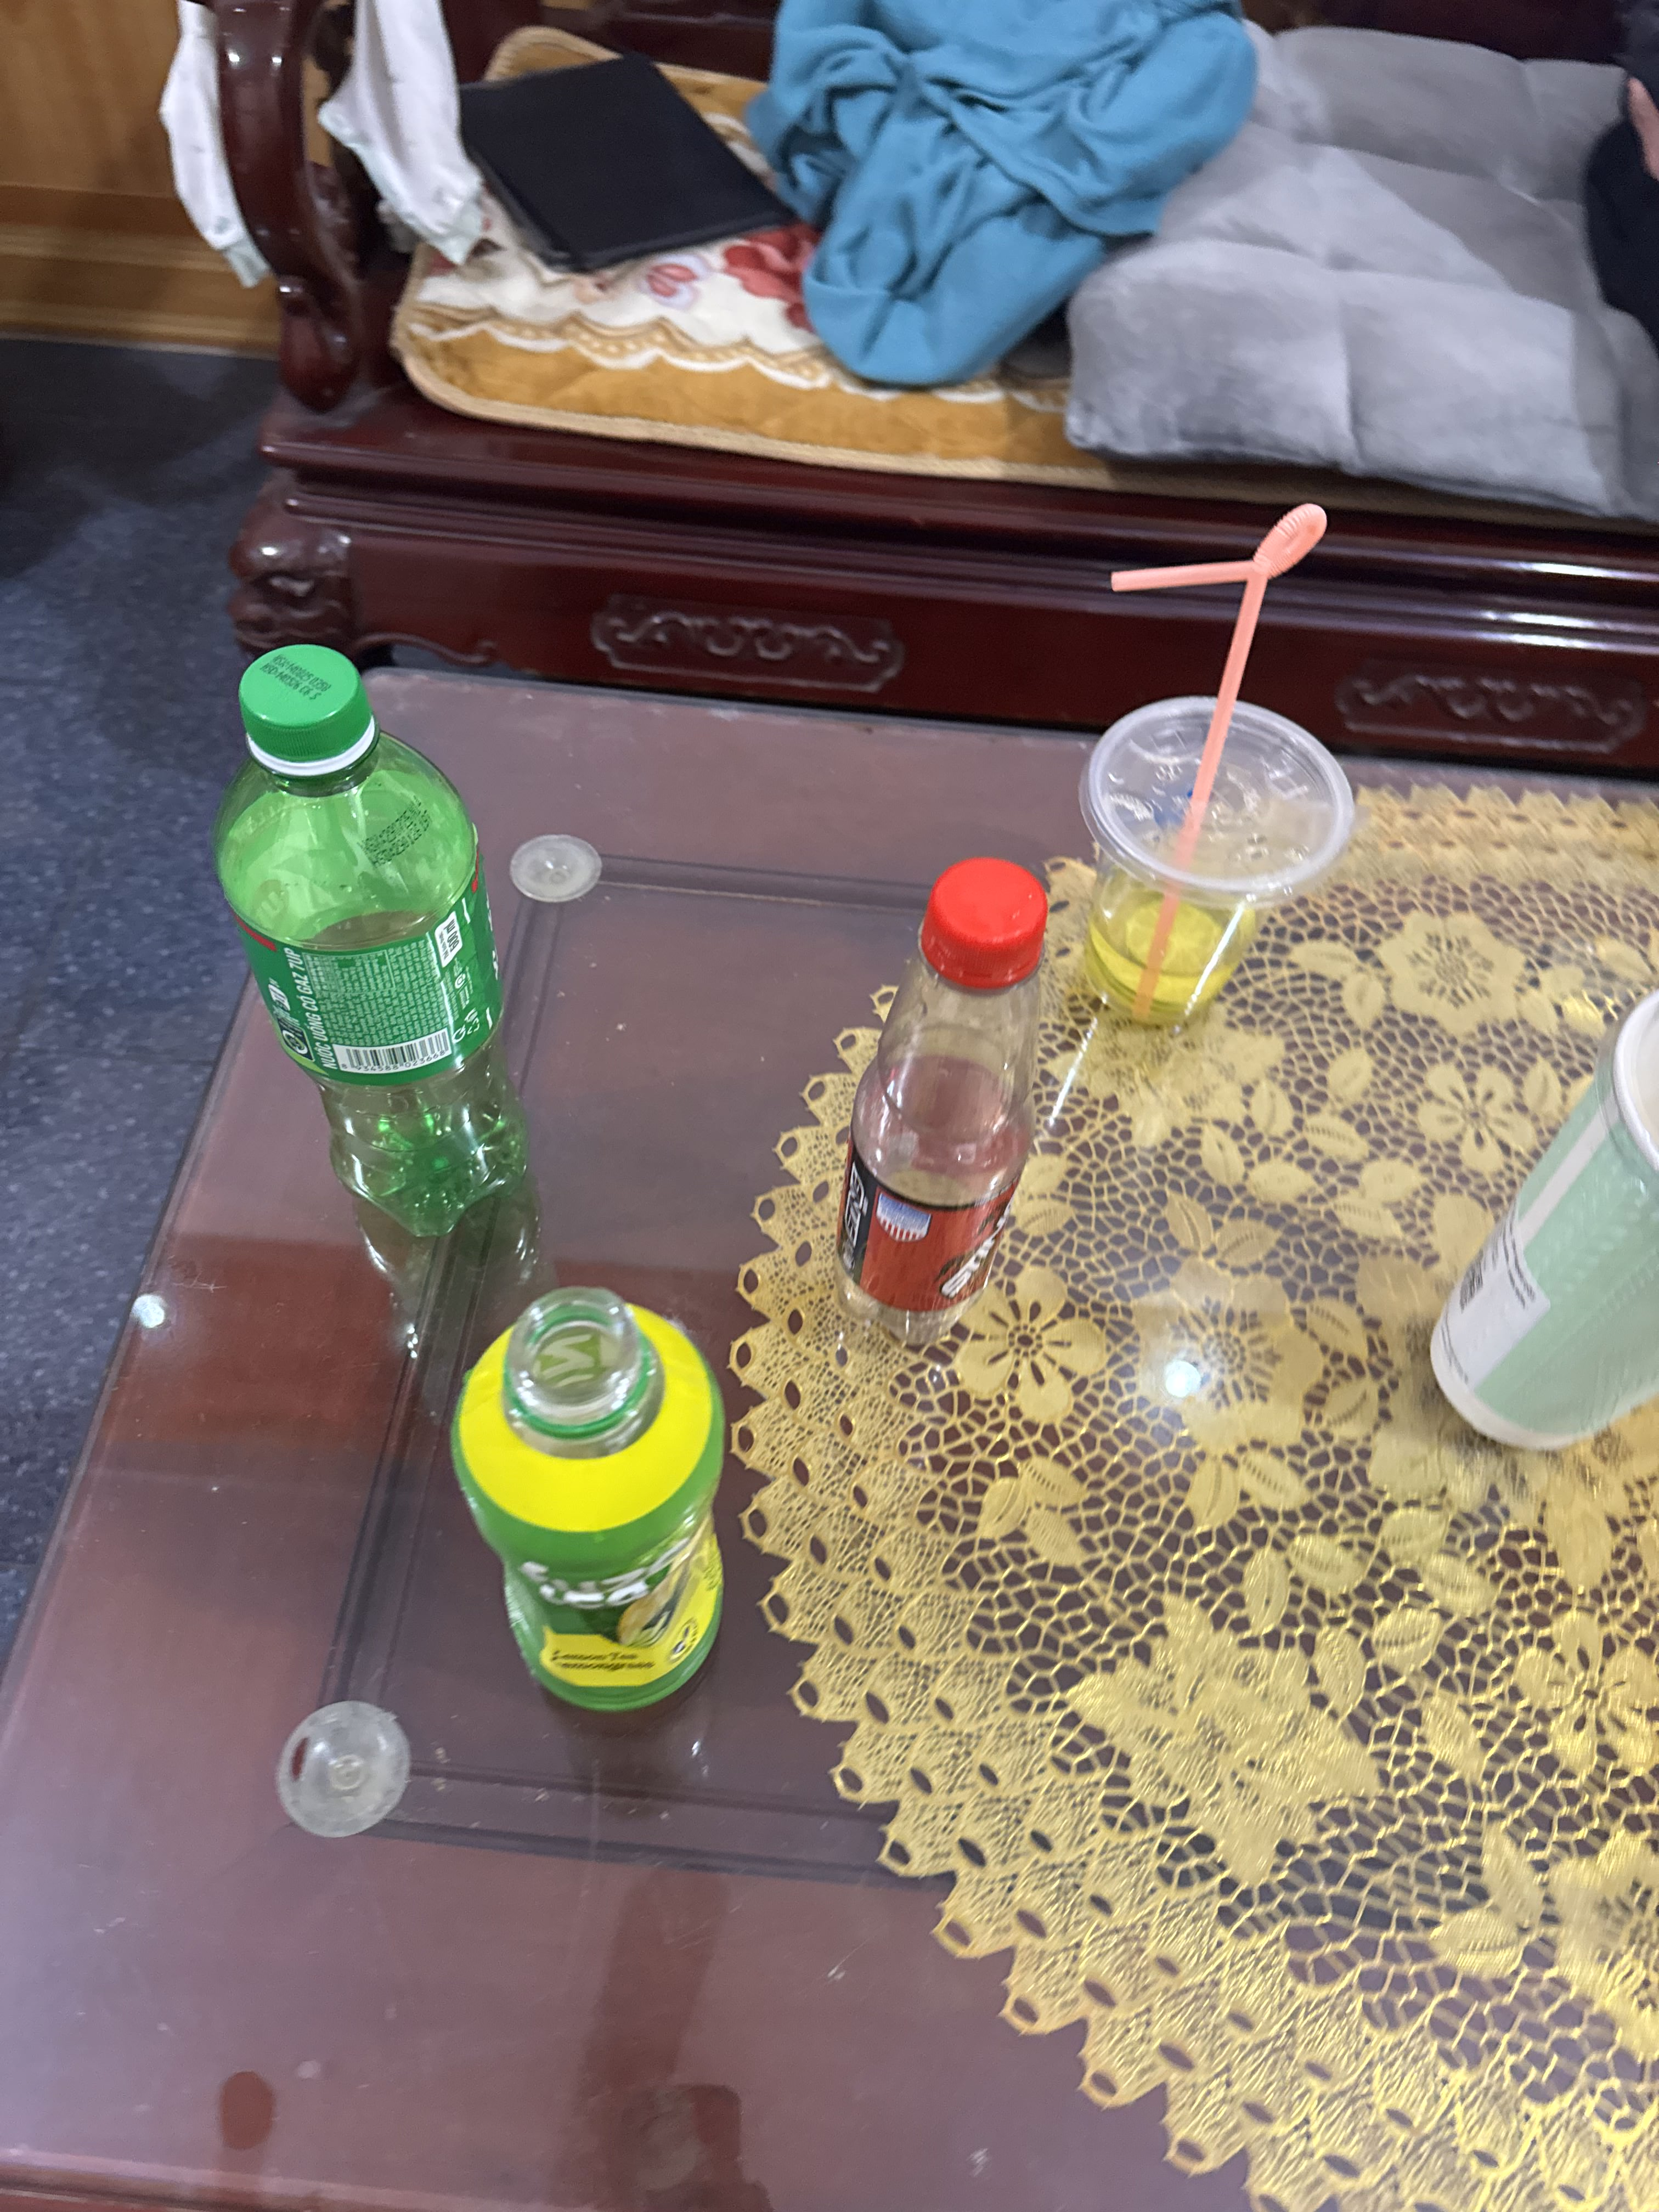2: (1415, 852, 1659, 1573), (1037, 643, 1377, 1076)
bottle: (160, 610, 587, 1252), (389, 1266, 842, 1775), (812, 824, 1061, 1378)
